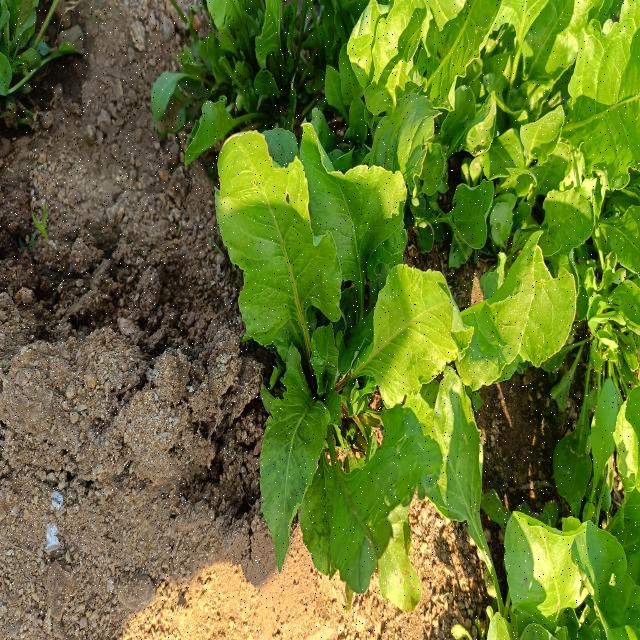leaves: (202, 125, 357, 380), (395, 232, 594, 407), (384, 364, 511, 580), (299, 115, 409, 310), (323, 434, 431, 630), (249, 360, 335, 583), (360, 264, 478, 407), (504, 169, 603, 295), (347, 1, 435, 142), (496, 503, 582, 638), (289, 452, 361, 604), (546, 357, 613, 509), (170, 98, 277, 192), (358, 89, 441, 210), (578, 373, 630, 546), (339, 1, 390, 113), (301, 319, 350, 406), (517, 98, 569, 179)
